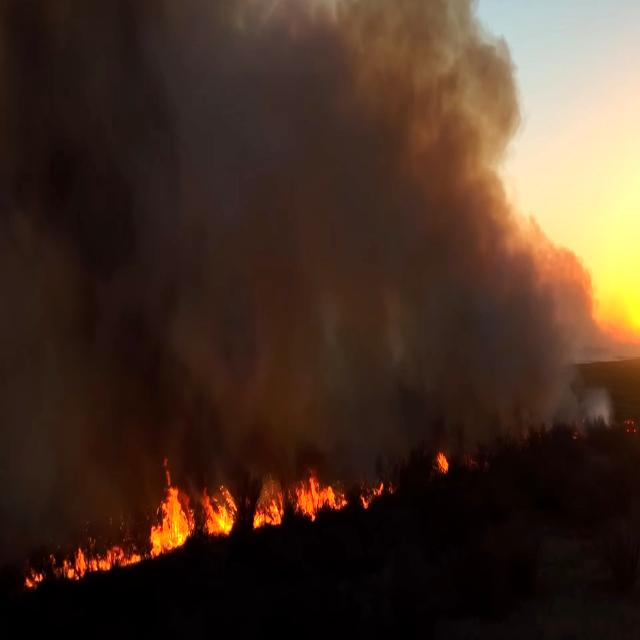fire: (144, 451, 231, 555), (249, 468, 345, 552)
smoke: (146, 0, 472, 341)
